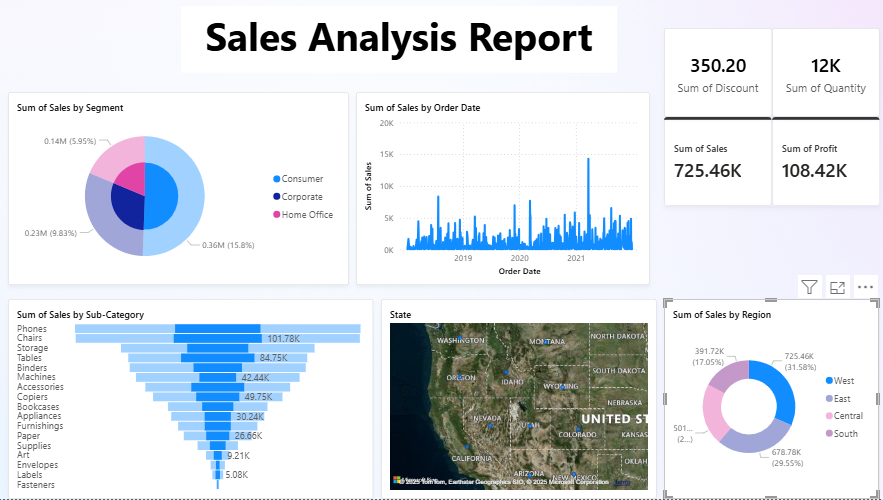

The page's visual inventory and layout, read from the dashboard file:
{"tool":"powerbi","page":{"name":"Page 1","canvas":[1280,720],"ordinal":0},"visuals":[{"type":"donutChart","fields":{"Category":["Orders.Region"],"Y":["Sum(Orders.Sales)"]},"box":[959,432,309.6,288],"z":0},{"type":"funnel","fields":{"Category":["Orders.Sub-Category"],"Y":["Sum(Orders.Sales)"]},"box":[14.4,432,525.6,288],"z":1},{"type":"map","fields":{"Category":["Orders.State"]},"box":[551.5,432,397.4,288],"z":2},{"type":"pieChart","fields":{"Category":["Orders.Segment"],"Y":["Sum(Orders.Sales)"]},"box":[14.4,133.9,491,277.9],"z":3},{"type":"lineChart","fields":{"Category":["Orders.Order Date"],"Y":["Sum(Orders.Sales)"]},"box":[515.5,133.9,423.4,277.9],"z":4},{"type":"cardVisual","fields":{"Data":["Sum(Orders.Sales)"]},"box":[959,169.9,155.5,128],"z":5},{"type":"cardVisual","fields":{"Data":["Sum(Orders.Profit)"]},"box":[1114.6,169.9,155,128],"z":6},{"type":"card","fields":{"Values":["Sum(Orders.Discount)"]},"box":[959,41.8,155.5,128.2],"z":7},{"type":"card","fields":{"Values":["Sum(Orders.Quantity)"]},"box":[1114.6,41.8,155,128.2],"z":8},{"type":"textbox","box":[263.5,10.1,627.8,96.5],"z":9}]}

Visuals, with their boxes in screenshot pixels (x1, y1, x2, y2), scaled from the page's 1280x720 canvas onto the 883x500 screenshot:
donutChart - Orders.Region x Sum(Orders.Sales): (662, 300, 875, 499)
funnel - Orders.Sub-Category x Sum(Orders.Sales): (10, 300, 373, 499)
map - Orders.State: (380, 300, 655, 499)
pieChart - Orders.Segment x Sum(Orders.Sales): (10, 93, 349, 286)
lineChart - Orders.Order Date x Sum(Orders.Sales): (356, 93, 648, 286)
cardVisual - Sum(Orders.Sales): (662, 118, 769, 207)
cardVisual - Sum(Orders.Profit): (769, 118, 876, 207)
card - Sum(Orders.Discount): (662, 29, 769, 118)
card - Sum(Orders.Quantity): (769, 29, 876, 118)
textbox: (182, 7, 615, 74)
